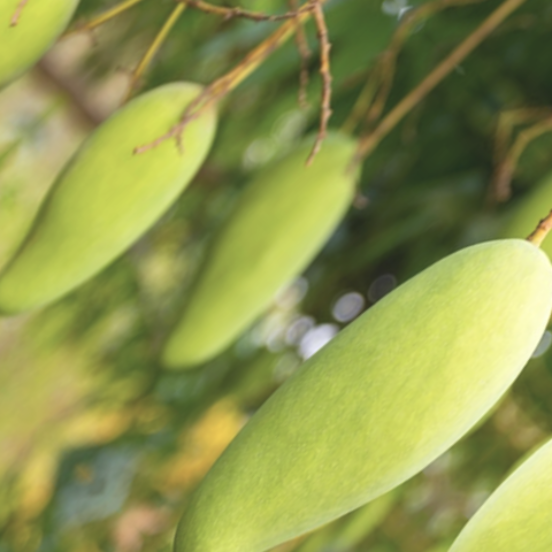mango: (116, 161, 552, 552), (87, 91, 414, 413), (0, 38, 259, 357)
